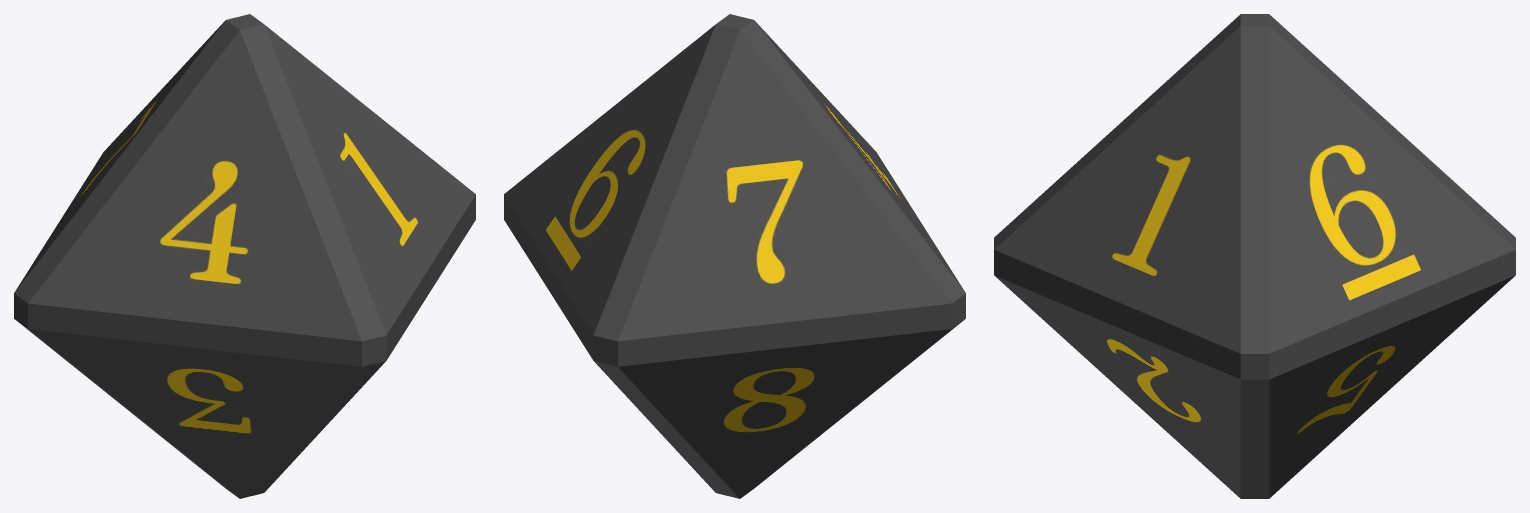
The model's file is D8Gilded.glb.
The picture shows the model from 3 angles, left to right: view 1: azimuth 30°, elevation 25°; view 2: azimuth 150°, elevation 25°; view 3: azimuth 270°, elevation 25°; orthographic projection.
Visible parts, largest first — view 1: D8Gilded; view 2: D8Gilded; view 3: D8Gilded.
Part boxes in pixels (left/top/right/bottom): D8Gilded: left=14, top=14, right=475, bottom=498; D8Gilded: left=504, top=14, right=965, bottom=498; D8Gilded: left=994, top=14, right=1515, bottom=498.
Size of the model in its own units: 2.89 by 2.89 by 2.89.
1 material, 1 textured.
